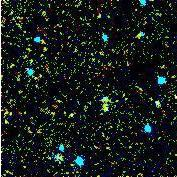star: (0, 103, 29, 133)
